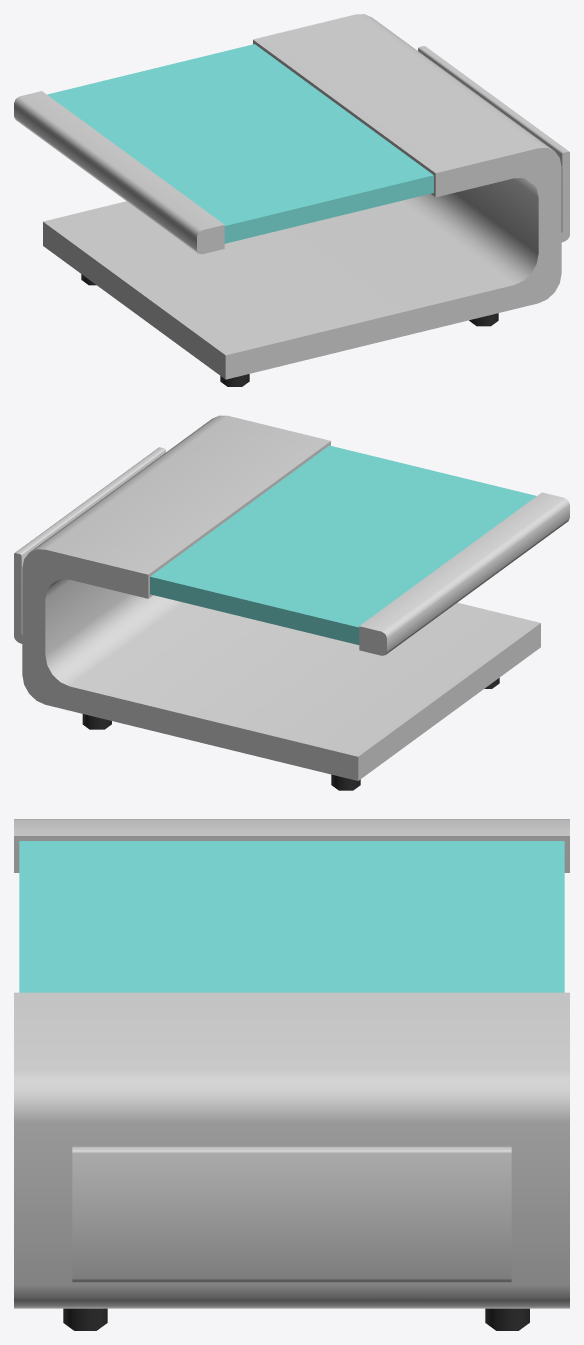
The model's file is Table Test.fbx.
The picture shows the model from 3 angles, top to bottom: view 1: azimuth 30°, elevation 25°; view 2: azimuth 150°, elevation 25°; view 3: azimuth 270°, elevation 25°; orthographic projection. The views are drawn at different scales.
Visible parts, largest first — view 1: Chair A.003; view 2: Chair A.003; view 3: Chair A.003.
Part boxes in pixels (x1,y1,x2,y2): Chair A.003: (14,14,569,386); Chair A.003: (14,415,569,790); Chair A.003: (14,819,569,1330).
Size of the model in its own units: 0.8575 by 0.3805 by 0.6921.
